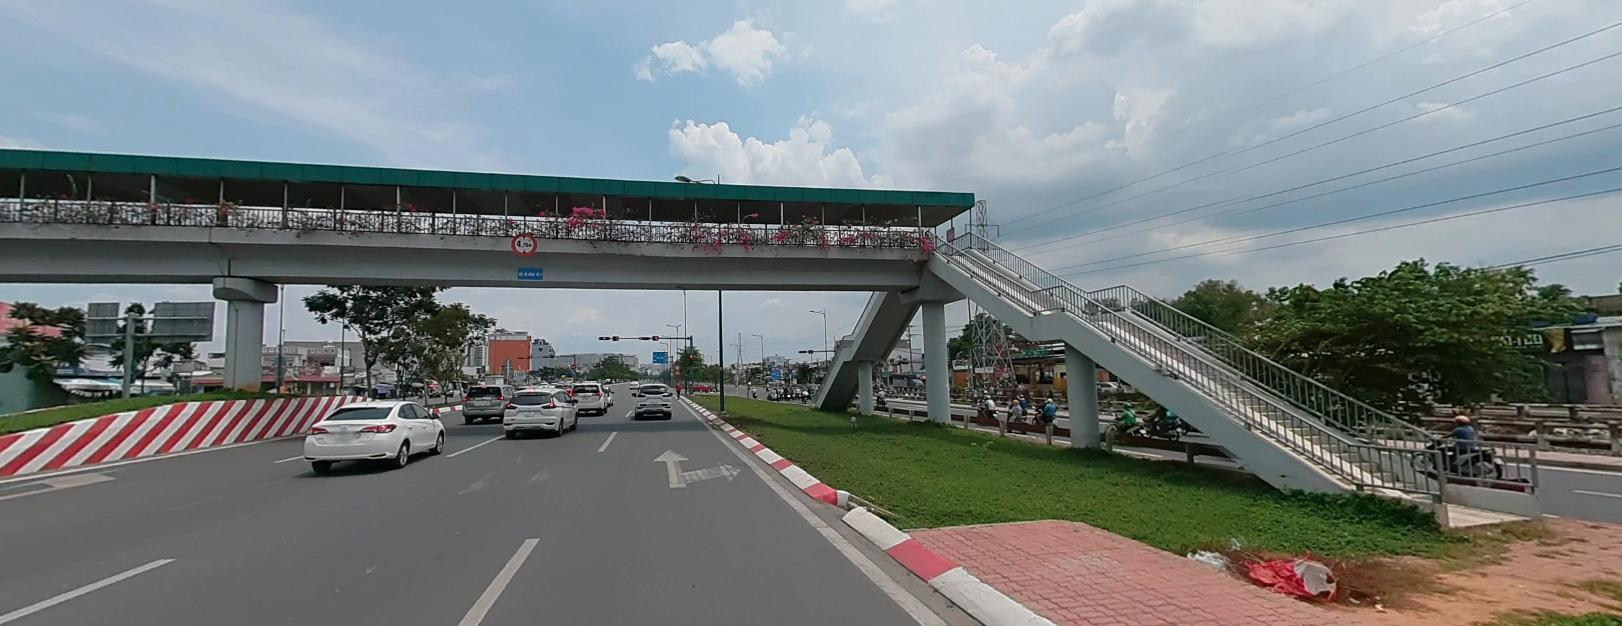Cam con lai: (512, 231, 537, 254)
